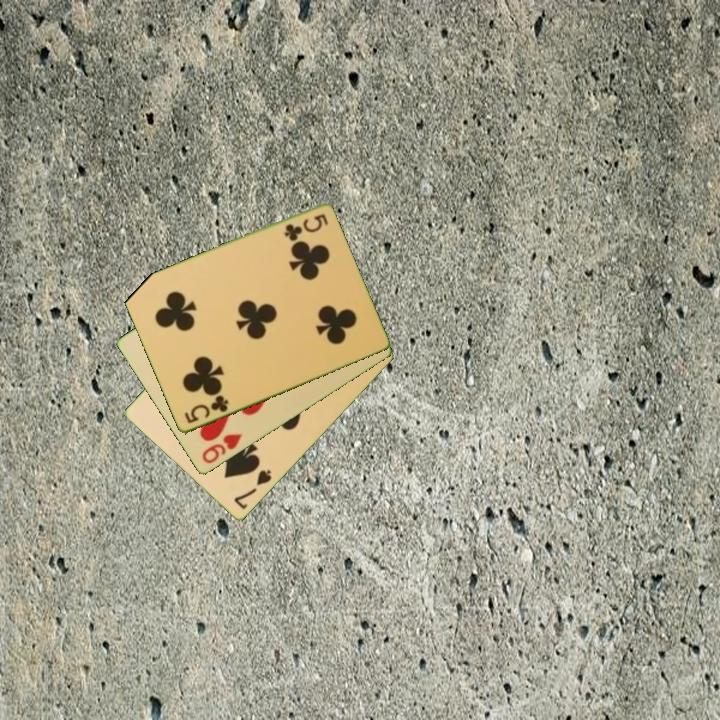5c: (181, 392, 231, 427), (280, 211, 331, 243)
7s: (230, 467, 274, 513)
9h: (198, 430, 245, 467)
